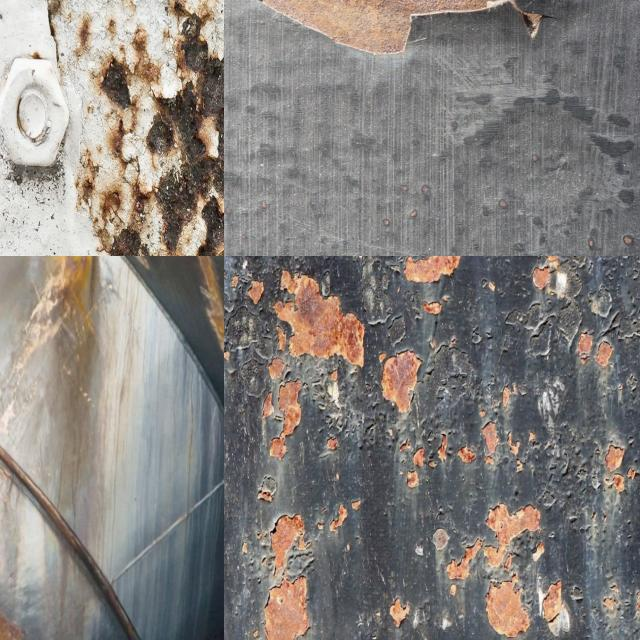Uniform Corrosion: (262, 0, 496, 54), (14, 256, 99, 369), (273, 271, 364, 366), (484, 504, 540, 567), (264, 576, 309, 640), (196, 256, 224, 354), (486, 576, 530, 637), (381, 350, 421, 412), (407, 435, 450, 488), (271, 515, 304, 574), (532, 256, 568, 298), (446, 539, 481, 579), (404, 256, 460, 281), (278, 380, 301, 438), (543, 581, 564, 622), (390, 596, 411, 628), (330, 504, 349, 538), (482, 421, 498, 453), (605, 445, 624, 471), (595, 341, 612, 365), (578, 333, 592, 361), (247, 280, 263, 304), (455, 446, 476, 464), (268, 357, 284, 379), (270, 438, 286, 460), (262, 393, 274, 417), (277, 327, 286, 350), (410, 608, 419, 628), (351, 499, 362, 512), (400, 440, 410, 451), (345, 540, 350, 550)
